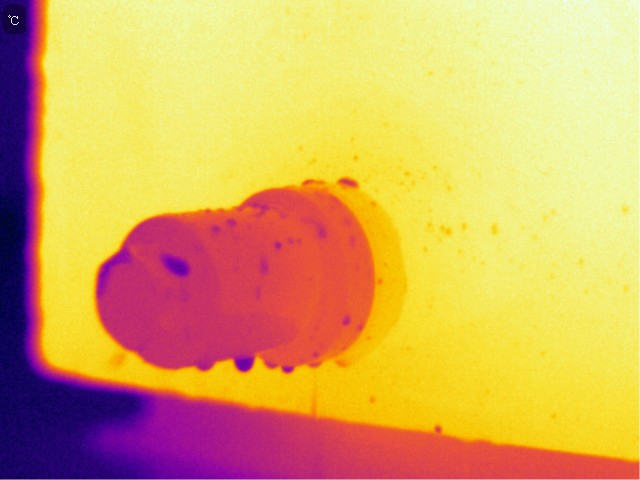Water: (331, 309, 377, 343), (154, 244, 192, 282), (249, 195, 286, 219), (295, 167, 325, 196), (334, 171, 361, 192), (252, 258, 278, 279), (194, 355, 216, 378), (231, 353, 253, 373), (282, 356, 300, 379), (429, 417, 447, 436), (486, 216, 503, 236), (287, 231, 308, 247), (316, 217, 329, 241), (225, 213, 242, 231), (207, 223, 224, 241), (268, 233, 284, 250), (337, 359, 353, 375), (345, 235, 361, 251), (264, 355, 278, 373), (367, 392, 379, 412), (307, 361, 322, 375), (376, 274, 386, 292), (341, 214, 352, 229), (311, 348, 321, 363), (201, 203, 211, 213)
